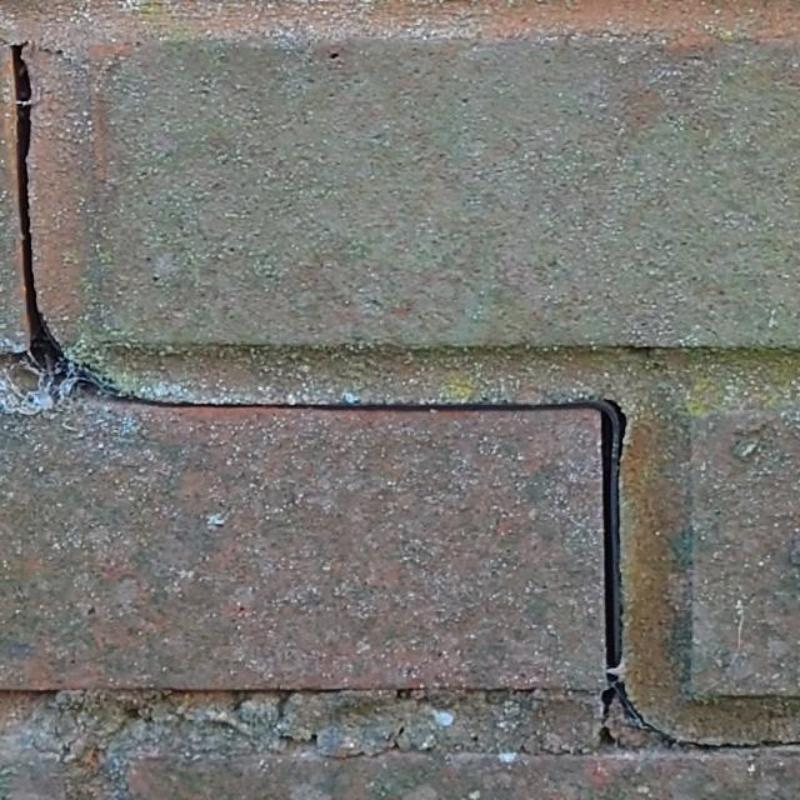pothole: (10, 47, 648, 725), (648, 726, 799, 751), (599, 698, 614, 746)
